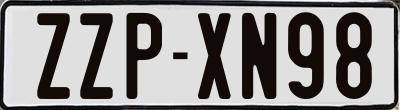8: (335, 9, 374, 97)
9: (287, 10, 328, 98)
N: (239, 13, 279, 101)
P: (126, 12, 167, 101)
X: (195, 12, 230, 101)
Z: (35, 11, 72, 103), (79, 10, 115, 100)
